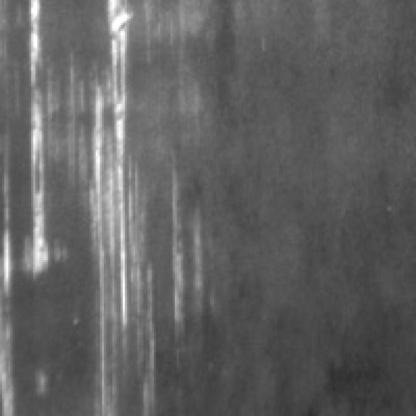scratches: (90, 0, 154, 376), (23, 0, 69, 277)
